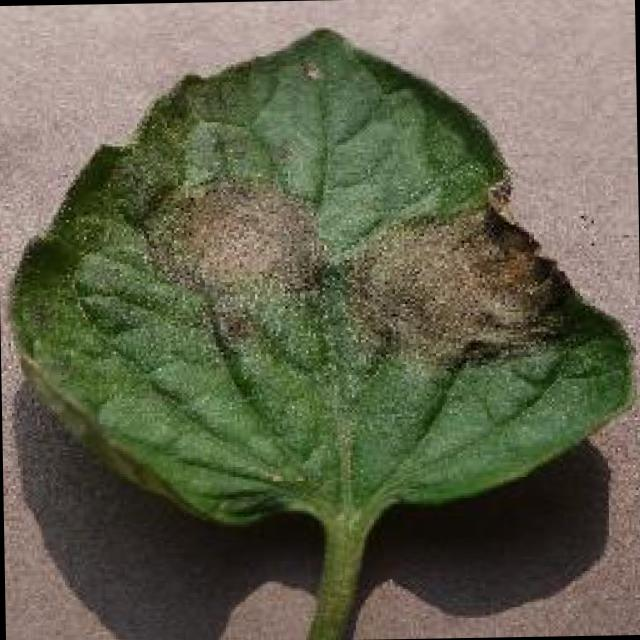Tomato_Late_Blight: (350, 162, 576, 386), (125, 156, 338, 330)
